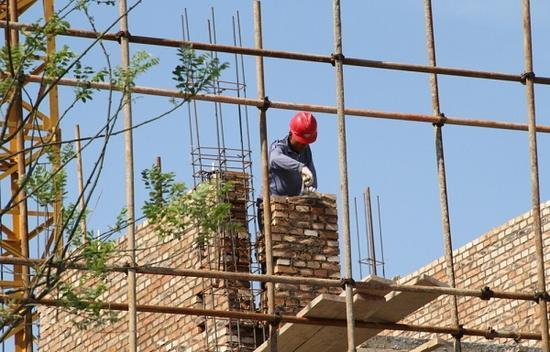helmet: (289, 111, 319, 146)
